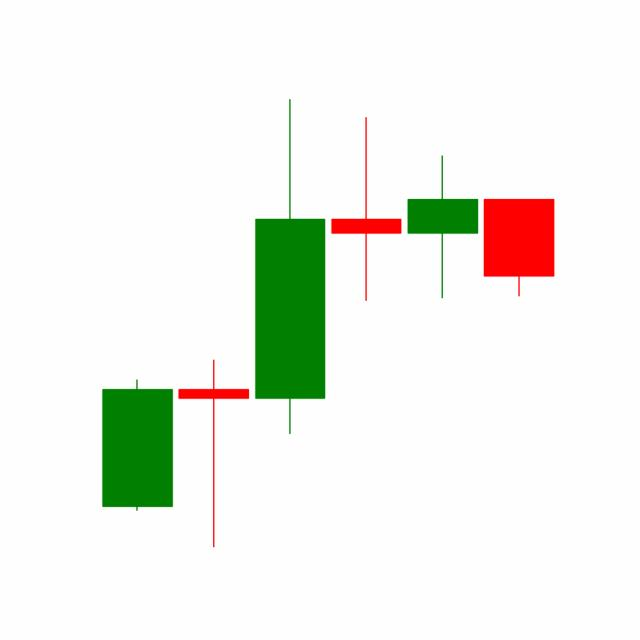Spinning Top: (403, 153, 481, 299)
